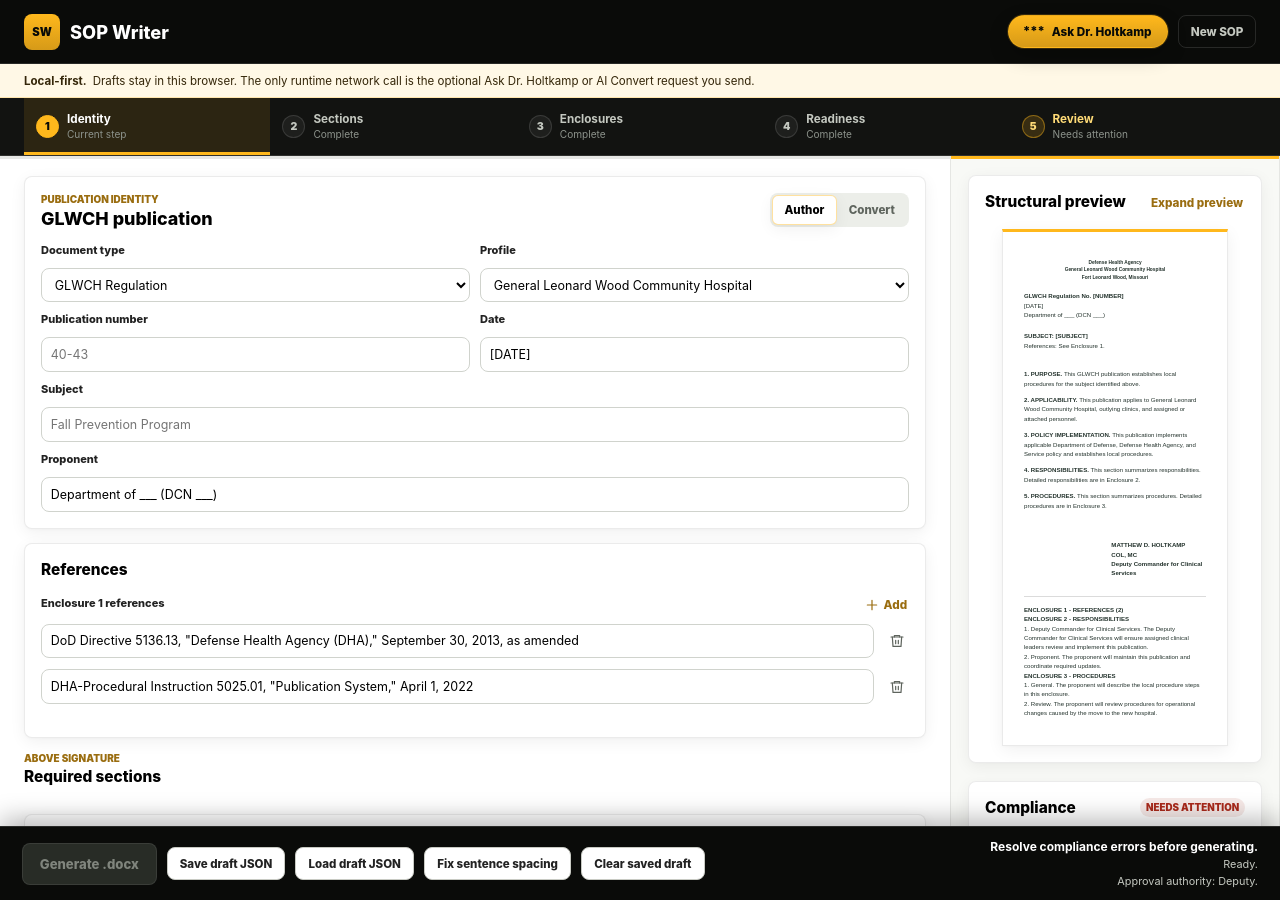
Test case: SOP Writer UI › renders authoring controls and enables conversion mode
Expected: the text "SOP Writer" is shown, 70,20 -> 169,42
Expected: the field labelled "Subject" is shown, 41,407 -> 909,442
Click the button "Convert" at (872, 210), box 836,195 -> 907,225
(page scrolled)
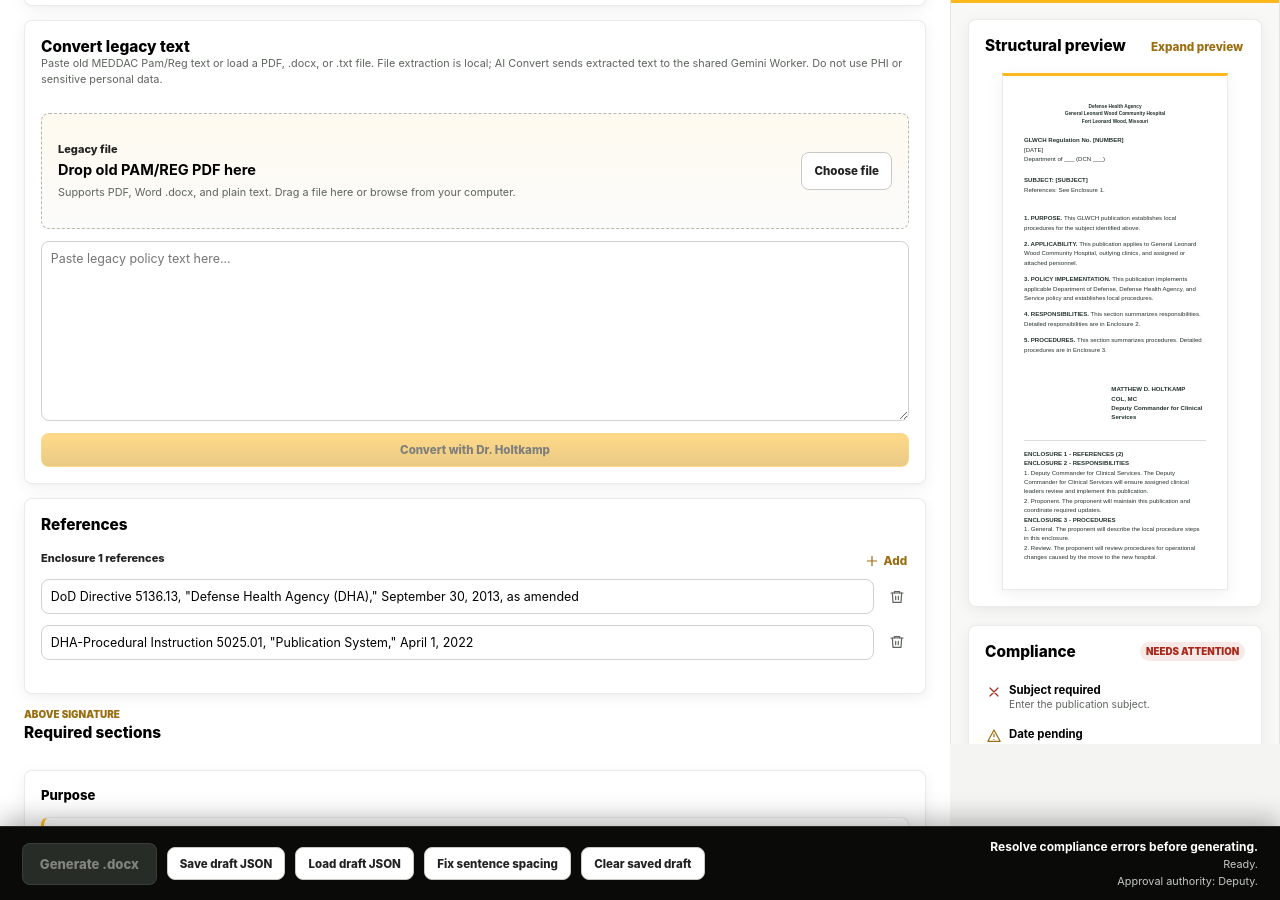
Expected: the text box named "Legacy MEDDAC text" is shown, 41,241 -> 909,421
Expected: the text "Drop old PAM/REG PDF here" is shown, 58,161 -> 256,179
Expected: the button "Choose file" is shown, 801,152 -> 892,190
